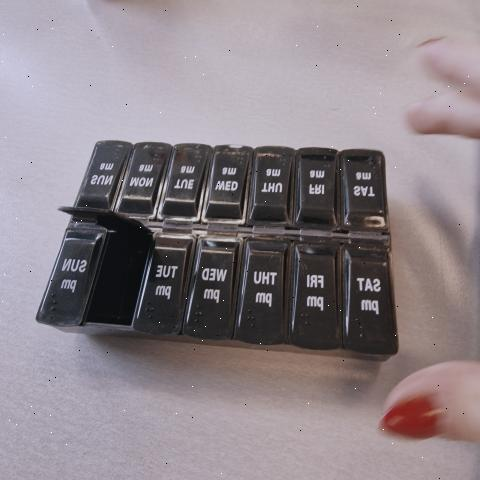Open: (63, 209, 151, 326)
